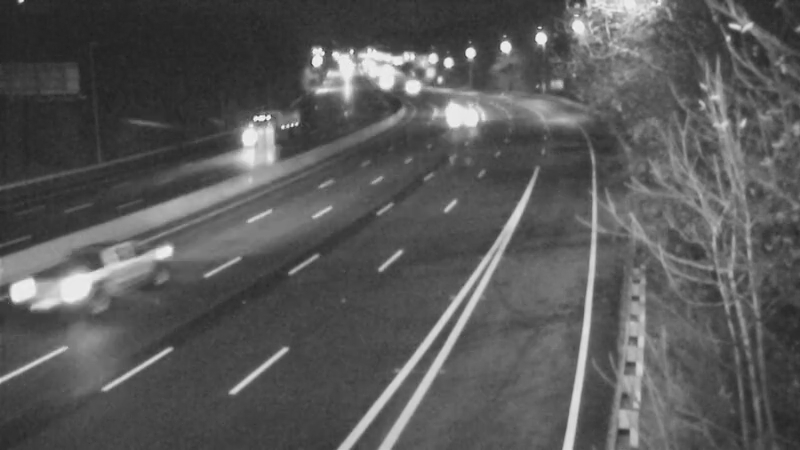vehicle: (13, 248, 93, 328), (380, 59, 430, 109), (433, 83, 483, 133), (436, 91, 486, 141), (245, 108, 295, 158)
